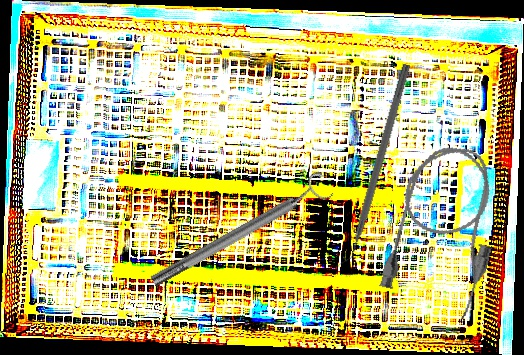Cannula: (376, 136, 514, 322)
Chopper: (332, 60, 412, 272)
Fixation Ring: (144, 169, 336, 295)
